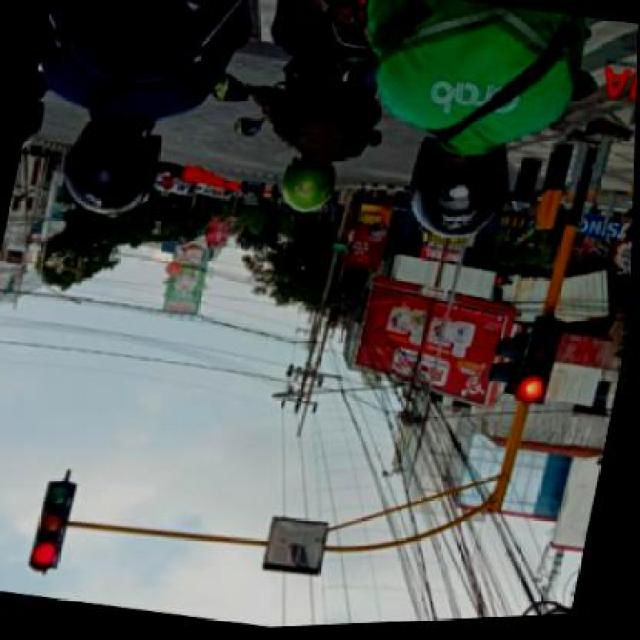red_light: (27, 472, 84, 580), (521, 317, 565, 408)
